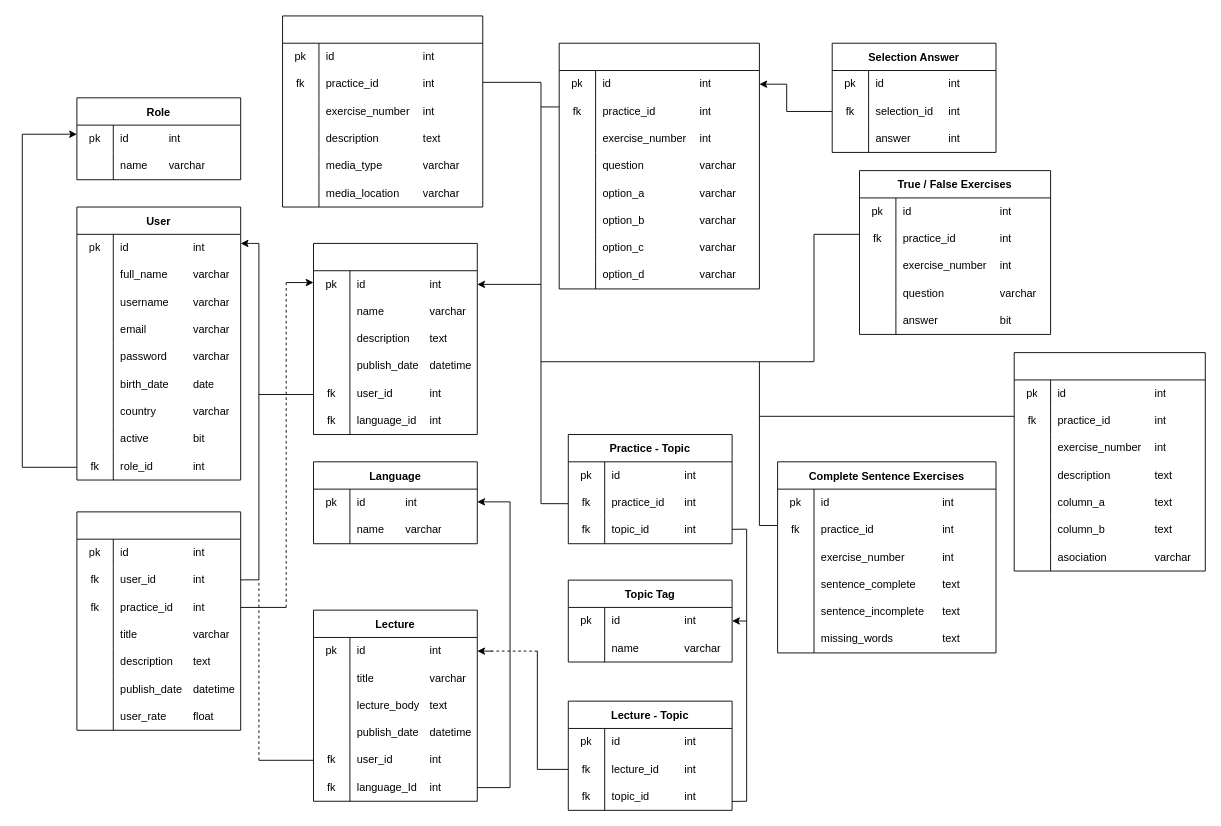
Image size: 1221x826. Some labels were removed from this diagram. Here are the shapes that lost their labels. From the top down, the box of each, then its label:
(282, 15, 483, 207): Exercise Resource
(558, 42, 759, 289): Selection Exercises
(313, 243, 477, 435): Practice
(1013, 352, 1205, 571): Pairing Exercises
(76, 511, 241, 730): Practice Reviews
